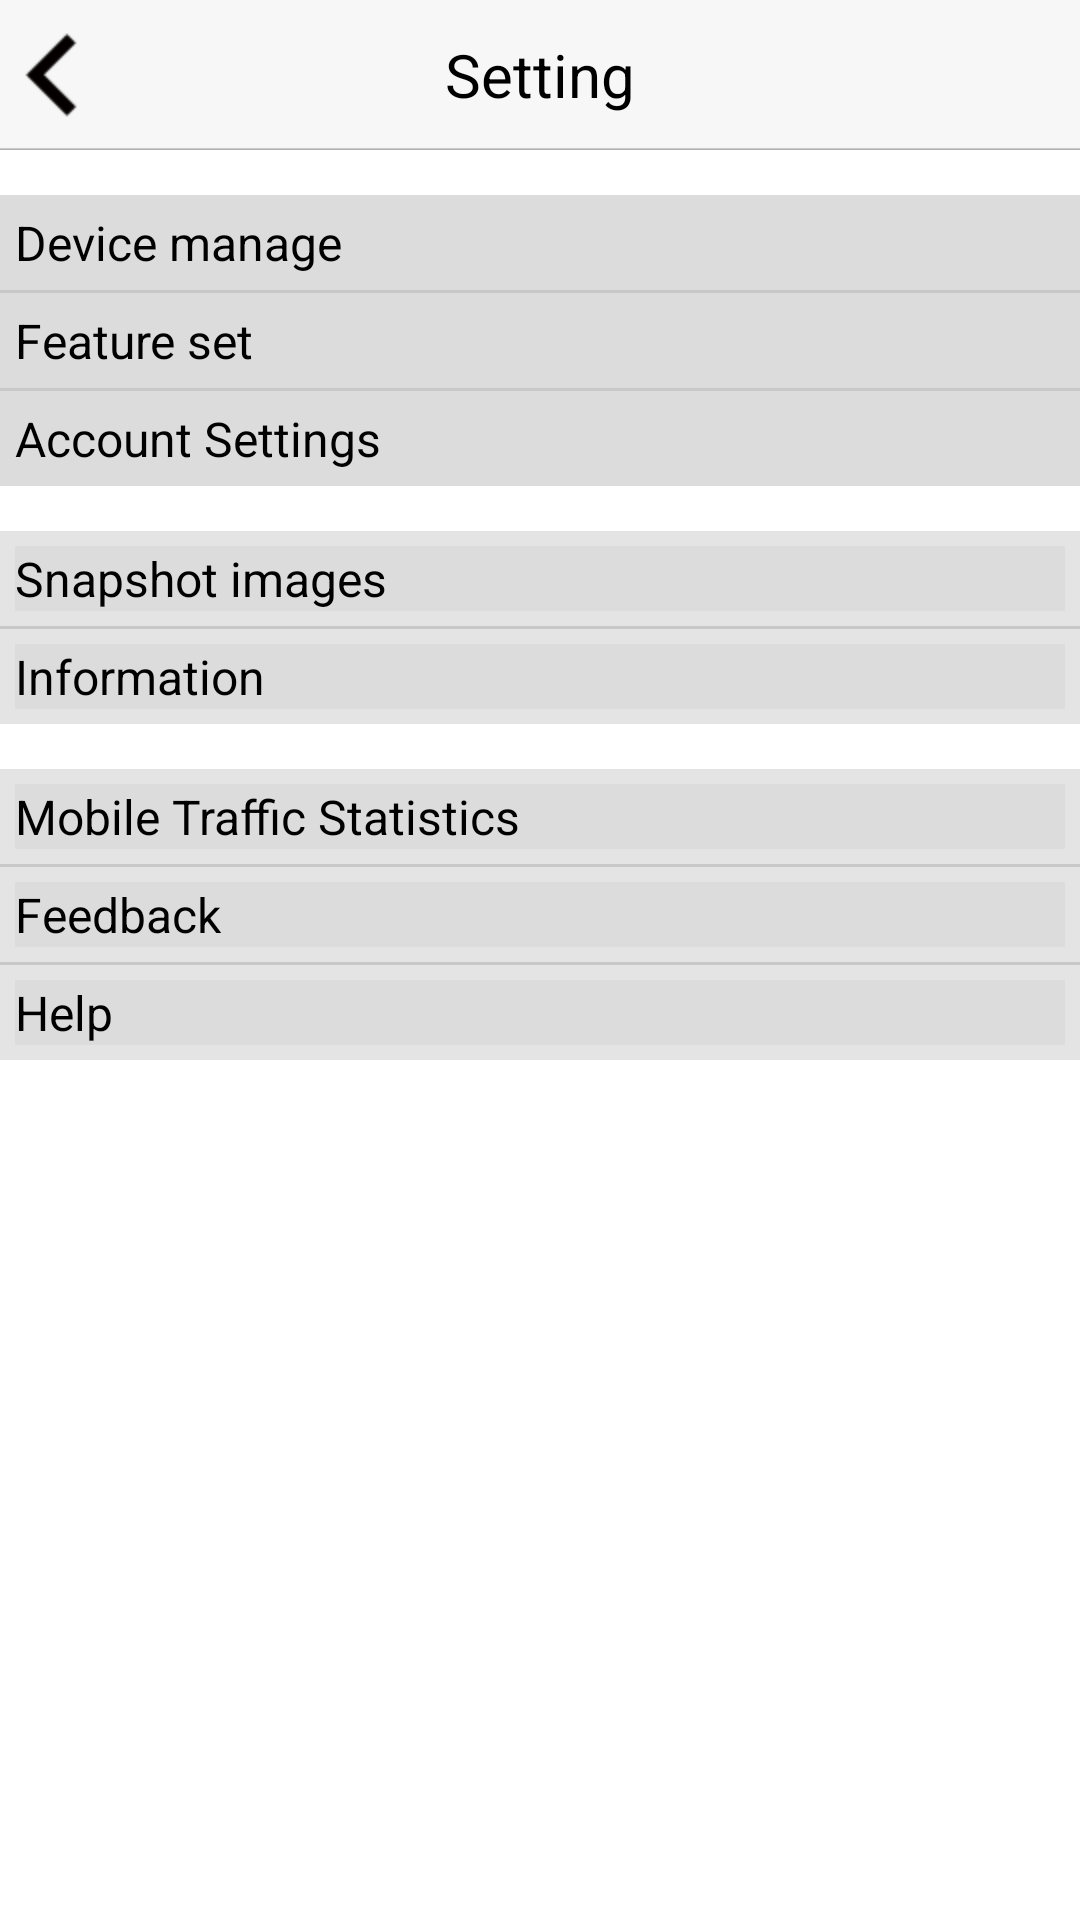

Icons on this 1080w x 1920h Android screen, each with its box as (left=x1, top=y1, right=x2, bottom=y2):
back: (left=25, top=33, right=77, bottom=117)
